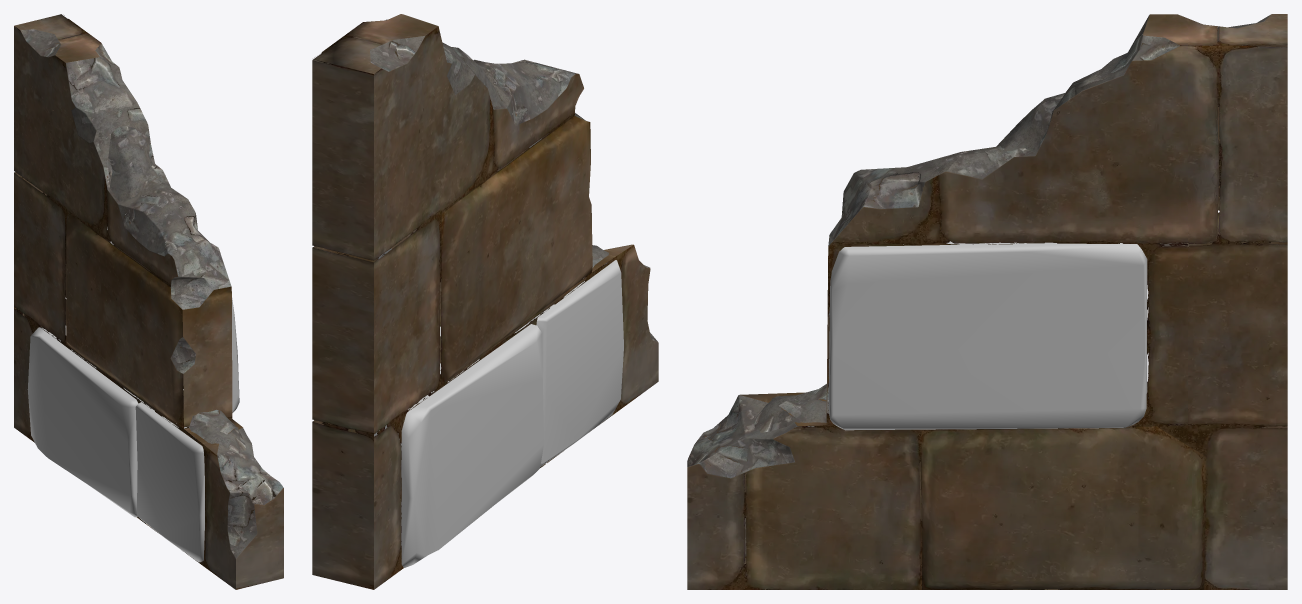
3 renders of one model, left to right at view 1: azimuth 30°, elevation 25°; view 2: azimuth 150°, elevation 25°; view 3: azimuth 270°, elevation 25°, orthographic. The views are drawn at different scales.
Visible parts, largest first — view 1: SM_Vault_4x4_Dmg_Wall_01_V5_LOD0; view 2: SM_Vault_4x4_Dmg_Wall_01_V5_LOD0; view 3: SM_Vault_4x4_Dmg_Wall_01_V5_LOD0.
Part boxes in pixels (x1,y1,x2,y2): SM_Vault_4x4_Dmg_Wall_01_V5_LOD0: (14,14,283,589); SM_Vault_4x4_Dmg_Wall_01_V5_LOD0: (312,14,658,589); SM_Vault_4x4_Dmg_Wall_01_V5_LOD0: (687,14,1287,589).
Size of the model in its own units: 0.7121 by 4 by 4.
